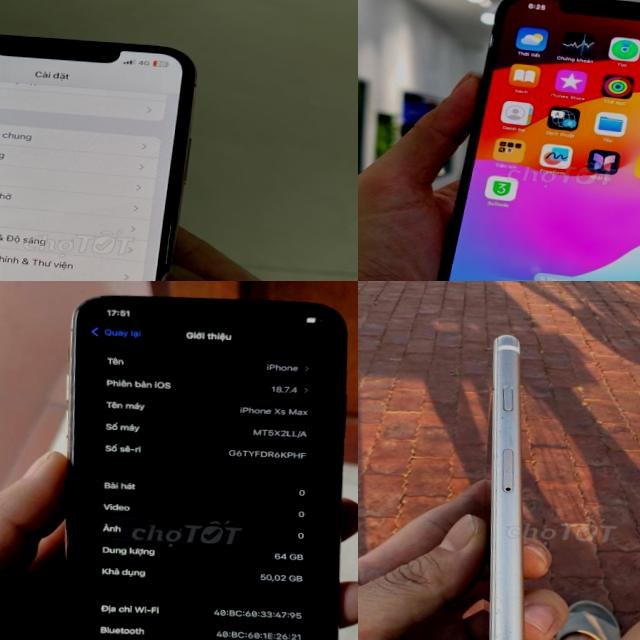gen_12_13: (422, 0, 640, 281)
gen_6: (458, 328, 571, 640)
gen_x_xs: (62, 296, 346, 640), (0, 35, 195, 281)
scratch: (486, 381, 514, 436)
